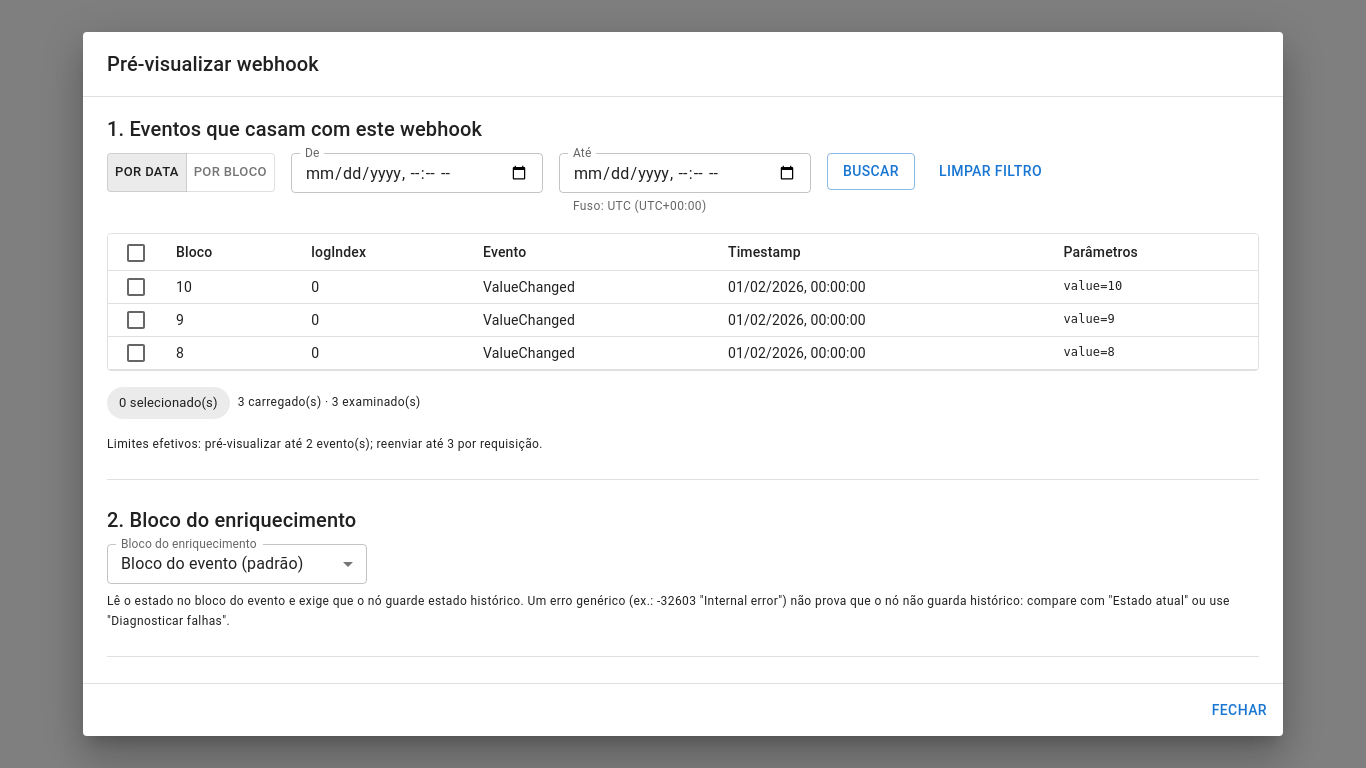
WebhookResendDialog — pré-visualização › payload ausente e item EVENT_NOT_FOUND não quebram a tela
Click the checkbox named "selecionar evento do bloco 10 " at {"x": 136, "y": 287}, box [124, 275, 148, 299]
(page scrolled)
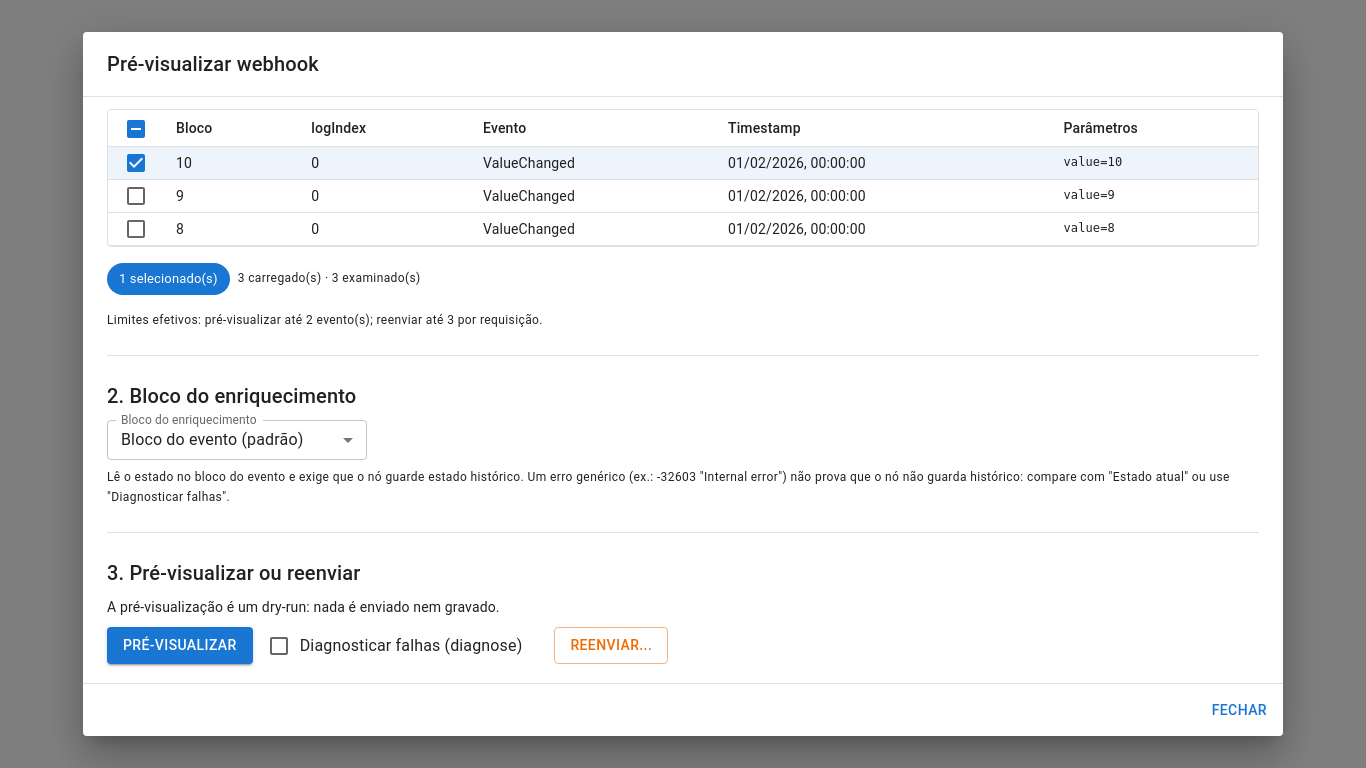
Click the button "Pré-visualizar" at {"x": 180, "y": 646}, box [107, 627, 253, 664]
(page scrolled)
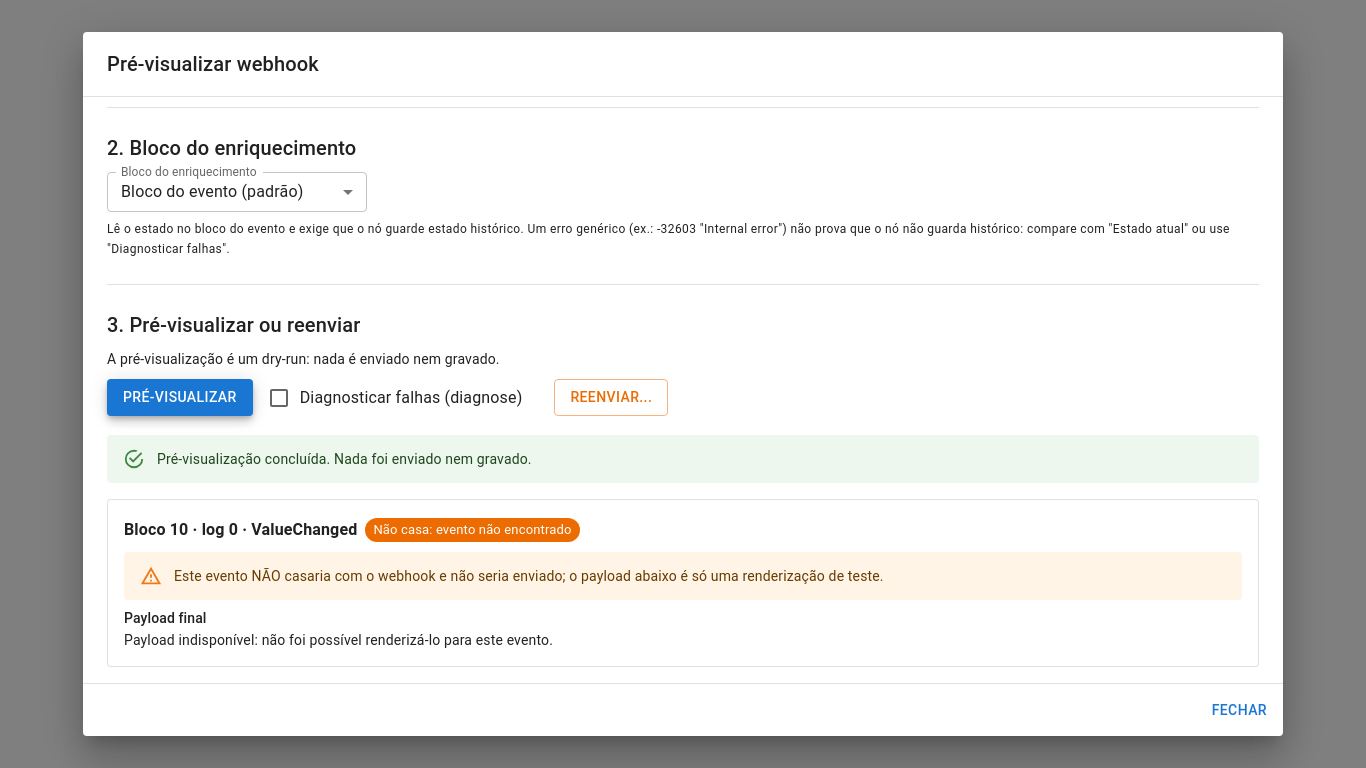
Result: the text "Payload indisponível" is shown at [124, 632, 553, 648]
Result: the text "Não casa: evento não encontrado" is shown at [365, 520, 580, 540]
